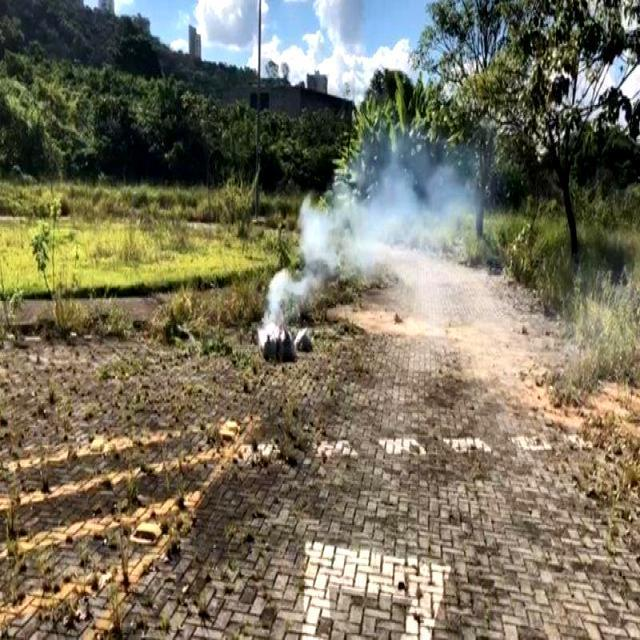Smoke: (257, 137, 502, 348)
